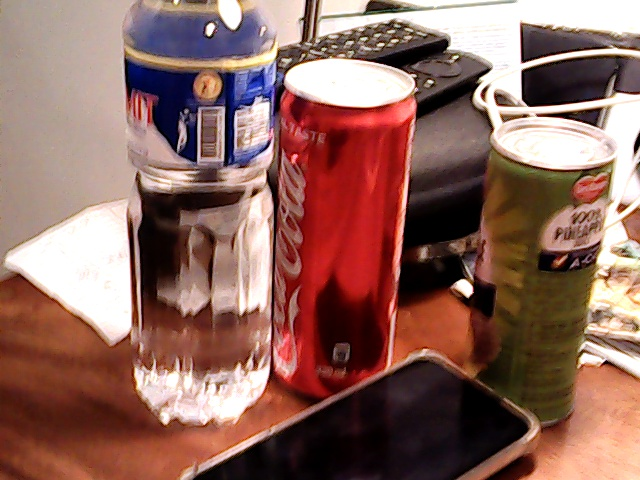Cola: (268, 55, 426, 400)
Pine Juice: (466, 116, 617, 394)
Summit Water: (108, 1, 279, 426)
